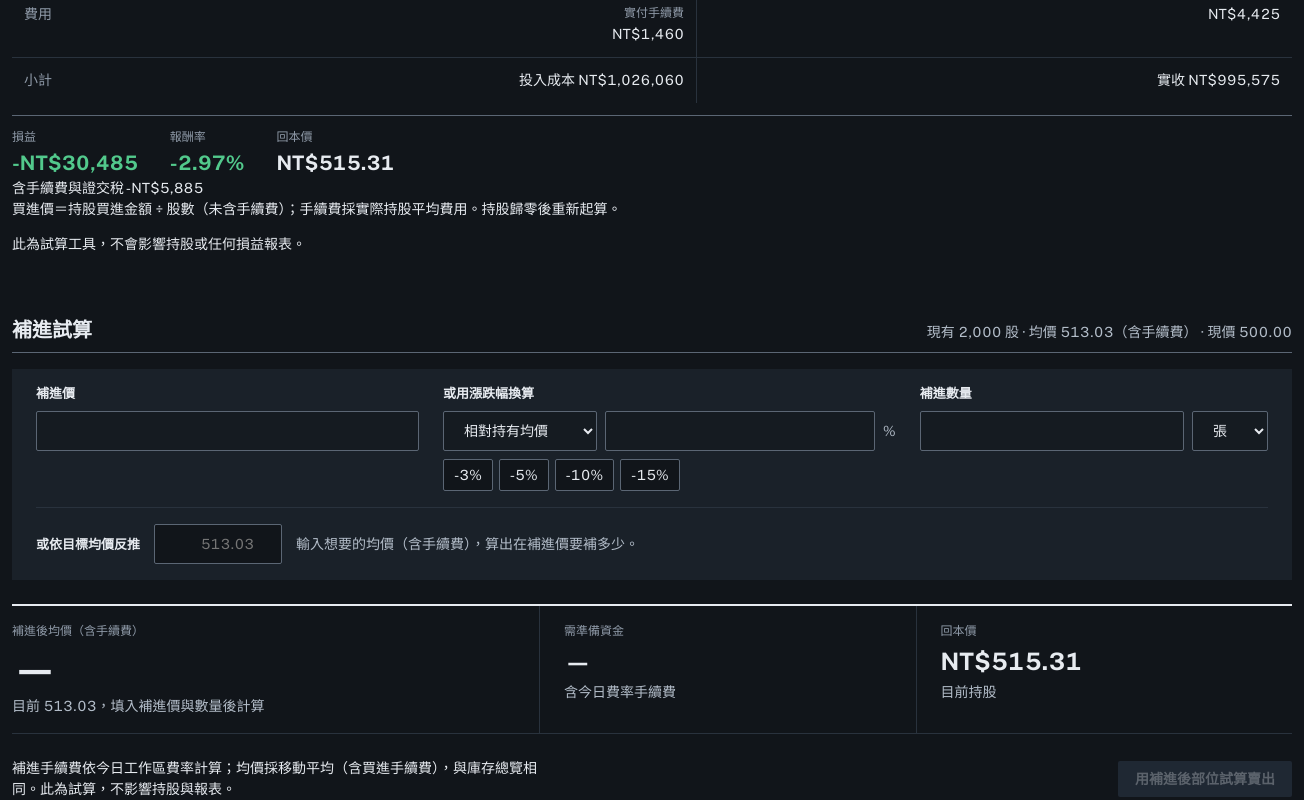
Test: WhatIfTab 賣出試算＋補進試算（Task 197） › 補進價與數量 → 均價、需準備資金、補進前後
The image size is (1304, 800).
(page scrolled)
Step 1. Type "480" into the number field labelled "補進價" → (228, 431), box [36, 411, 419, 451]
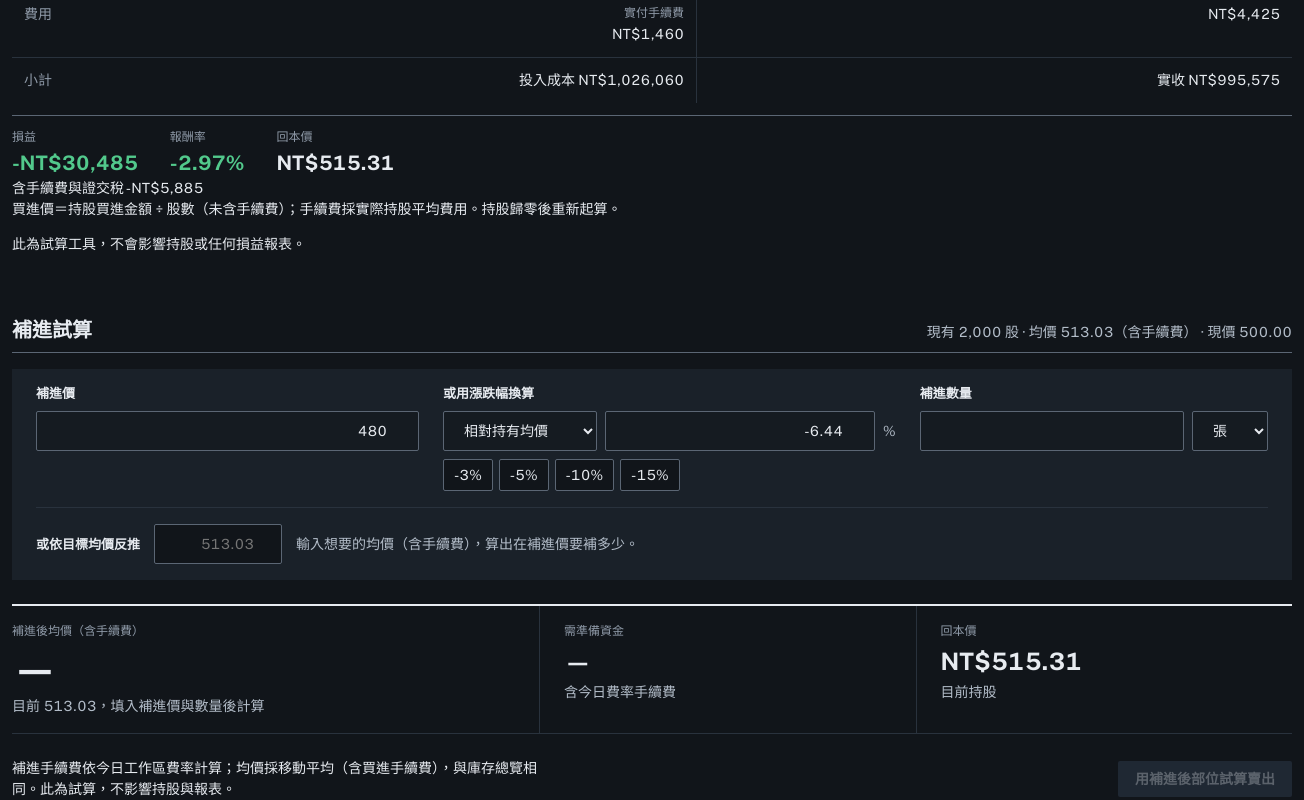
Step 2. Type "1" into the number field labelled "補進數量" → (1052, 431), box [920, 411, 1184, 451]
(page scrolled)
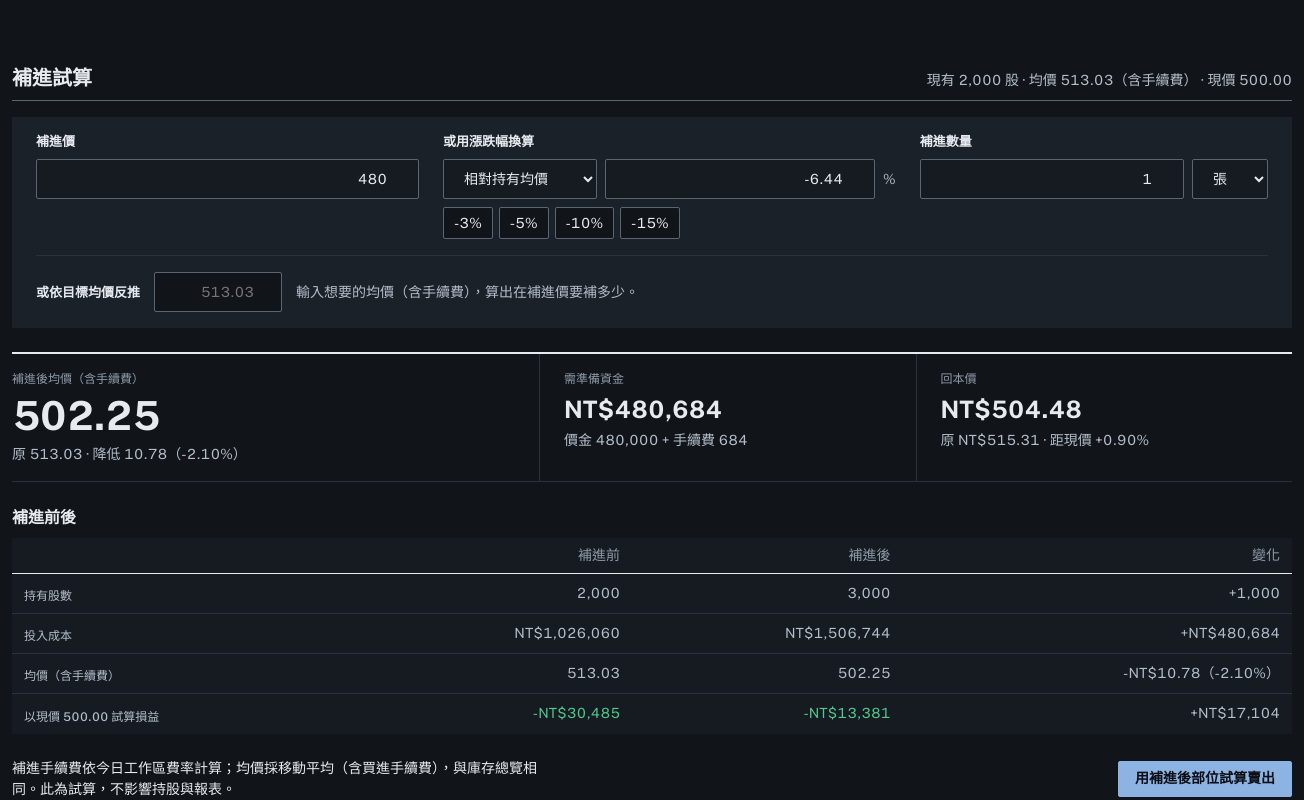
Now the text with test id "addon-cash" shows "480,684", box [564, 395, 722, 423]
Now the text with test id "addon-avg-after" reads "502.25", box [12, 392, 159, 439]
Now the cell with test id "addon-total-cost" shows "1,506,744", box [785, 625, 891, 641]
